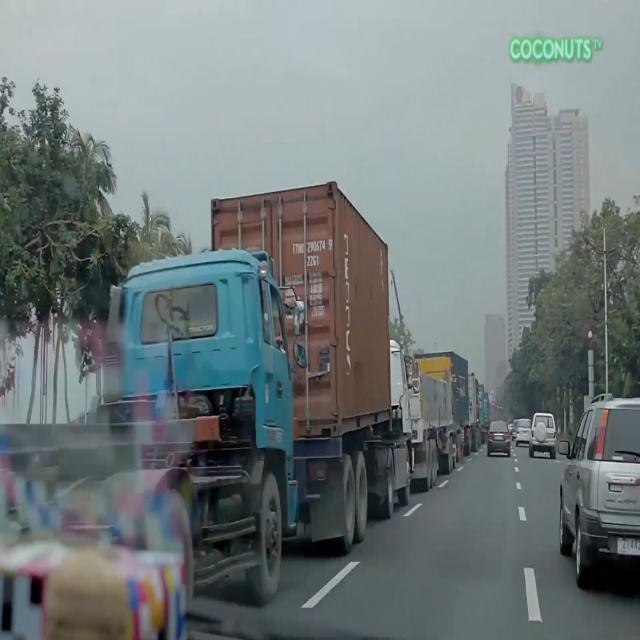truck: (0, 255, 307, 609), (210, 182, 422, 557), (404, 357, 454, 495), (414, 348, 474, 463)
